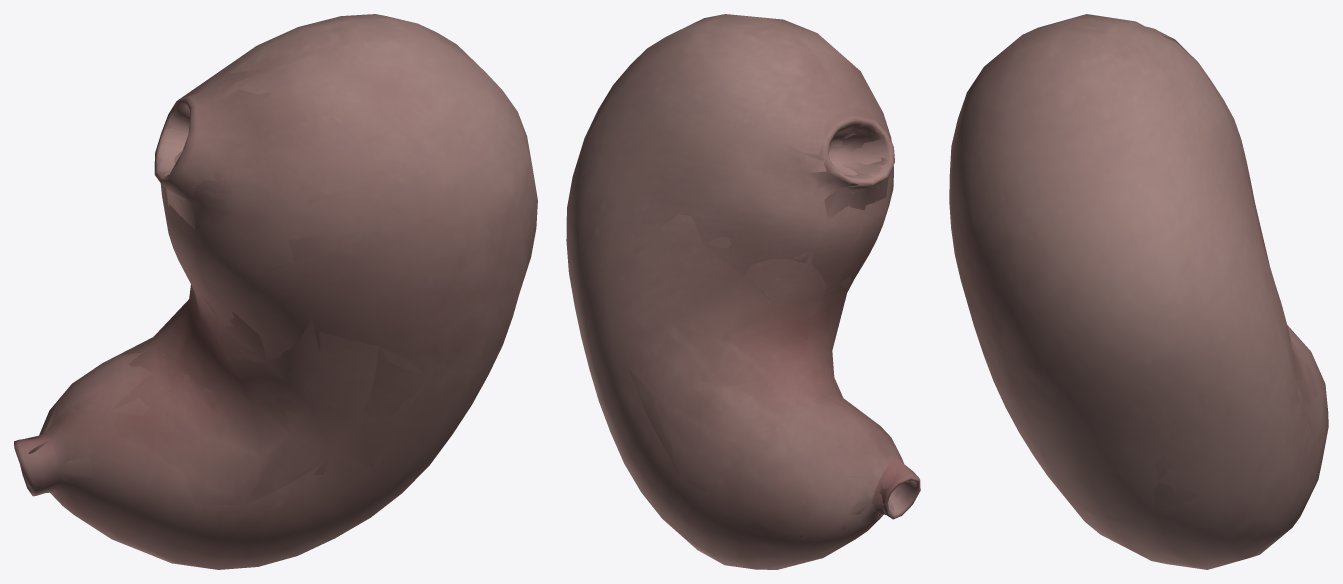
Rendered from Stomach.fbx.
The picture shows the model from 3 angles, left to right: view 1: azimuth 30°, elevation 25°; view 2: azimuth 150°, elevation 25°; view 3: azimuth 270°, elevation 25°; orthographic projection. The views are drawn at different scales.
Parts seen in each view (by area): view 1: Stomach, Stomach low, Stomach high; view 2: Stomach, Stomach low, Stomach high; view 3: Stomach, Stomach low, Stomach high.
Boxes of the visible parts, <box> form: Stomach: <box>14,14,537,569</box>; Stomach low: <box>24,17,537,569</box>; Stomach high: <box>22,16,529,553</box>; Stomach: <box>566,14,920,569</box>; Stomach low: <box>570,18,915,567</box>; Stomach high: <box>580,34,919,564</box>; Stomach: <box>949,14,1328,569</box>; Stomach low: <box>952,21,1324,553</box>; Stomach high: <box>950,40,1322,565</box>.
Bounding box in the file's own units: 11.92 × 14.37 × 8.99.
1 material, 1 textured.
